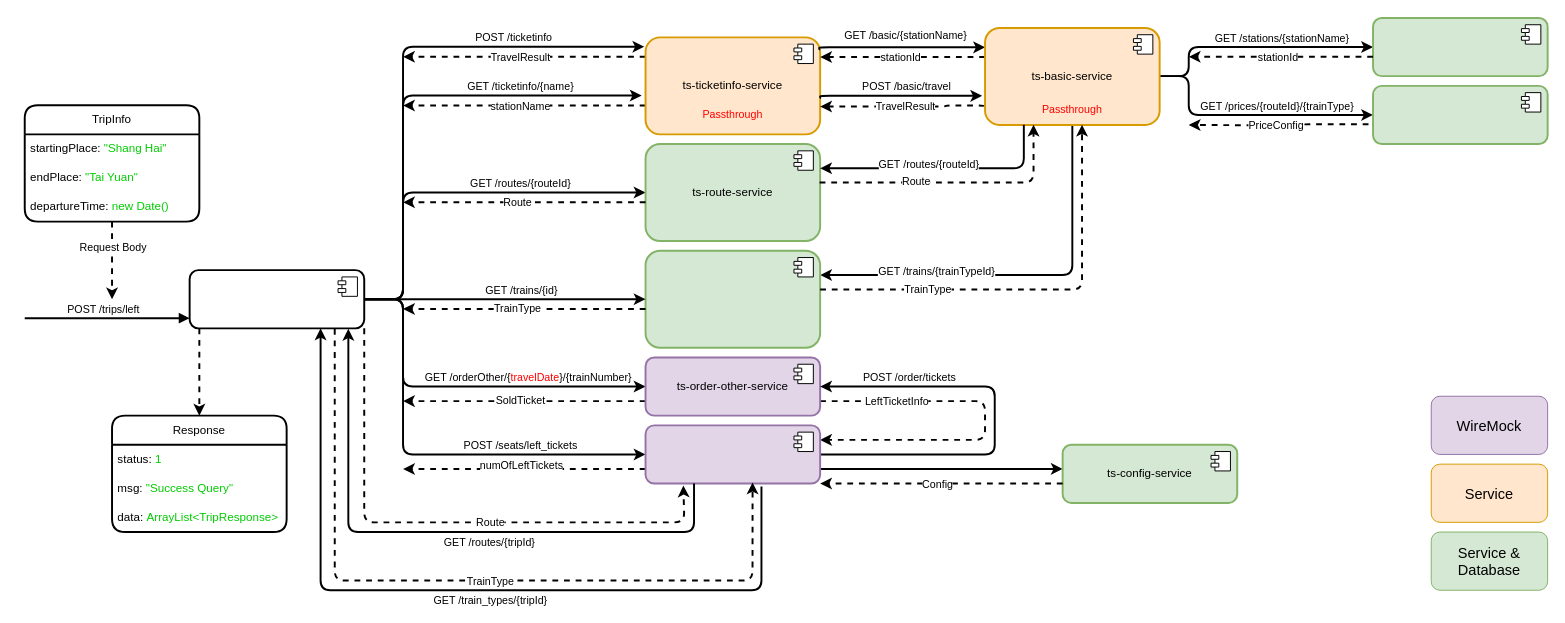
The diagram is 1565 pixels wide and 623 high, and some of its shapes have lost their labels. The shapes that lost their labels are listed below. From the top down, each one's centre as x and y in pixels, then its label:
the point at 1460,46: ts-station-service
the point at 1460,114: ts-price-service
the point at 276,299: ts-travel2-service
the point at 732,298: ts-train-service
the point at 732,454: ts-seat-service
